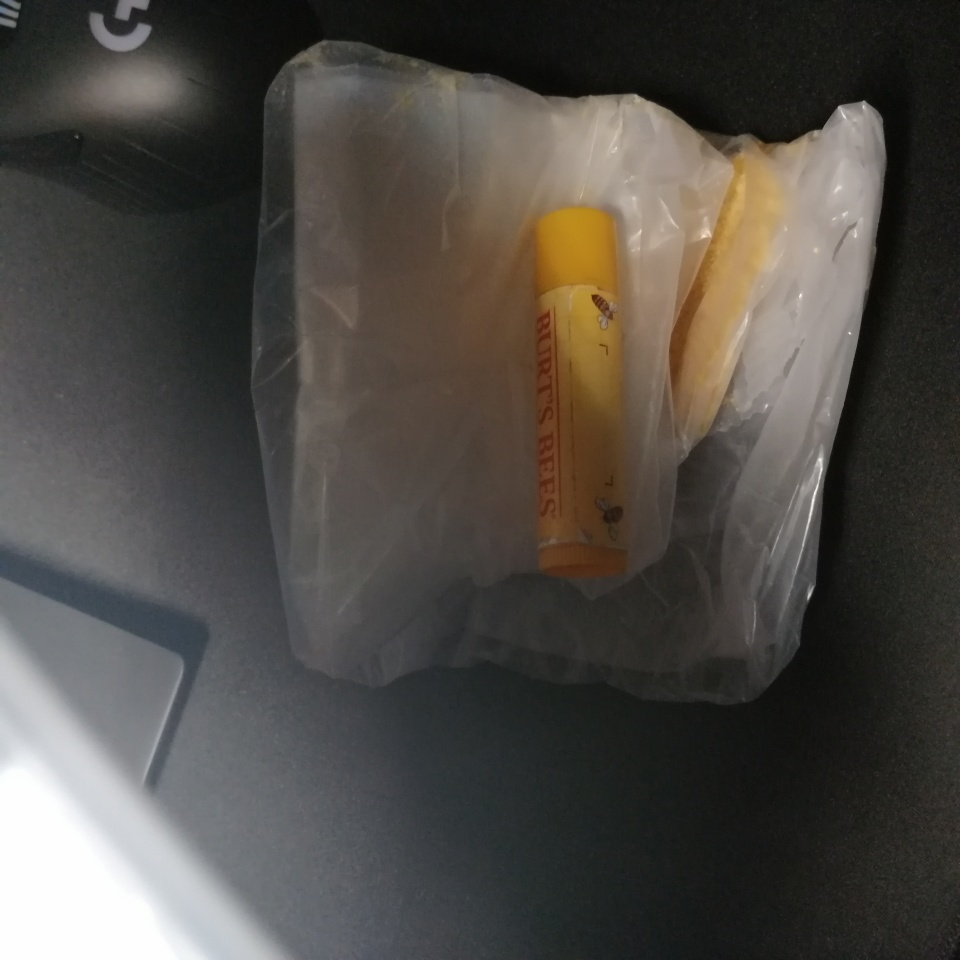chapstick: (533, 207, 630, 580)
